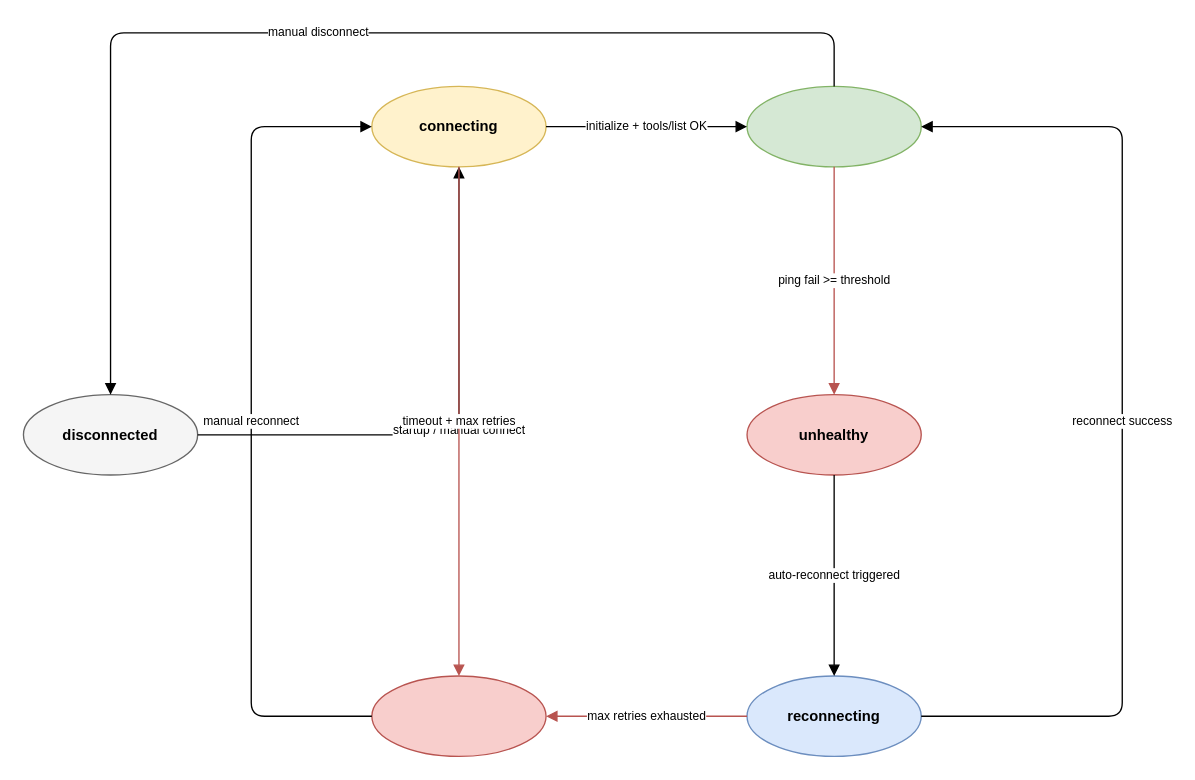
The diagram is 1195 pixels wide and 780 high, and some of its shapes have lost their labels. The shapes that lost their labels are listed below. From the top down, each one's centre as x and y in pixels, then its label:
At (833,126): "connected".
At (458,715): "failed".
